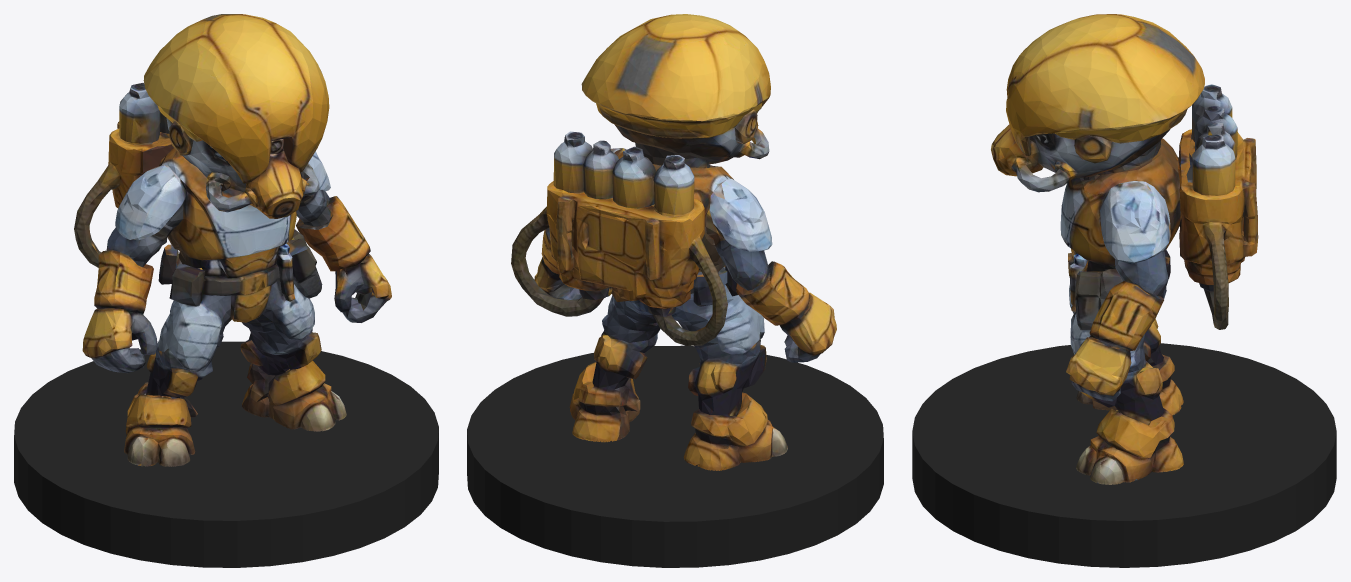
File: pf-medical-technician.glb
3 views of the same model, side by side, from view 1: azimuth 30°, elevation 25°; view 2: azimuth 150°, elevation 25°; view 3: azimuth 270°, elevation 25° (orthographic).
Visible parts, largest first — view 1: figure, base; view 2: figure, base; view 3: figure, base.
Part boxes in pixels (<box>): figure: <box>74,14,391,466</box>; base: <box>14,341,438,567</box>; figure: <box>511,14,836,470</box>; base: <box>467,345,883,567</box>; figure: <box>991,14,1258,484</box>; base: <box>912,343,1336,567</box>.
Bounding box in the file's own units: 0.9843 × 1.17 × 0.9843.
2 materials, 1 textured.
